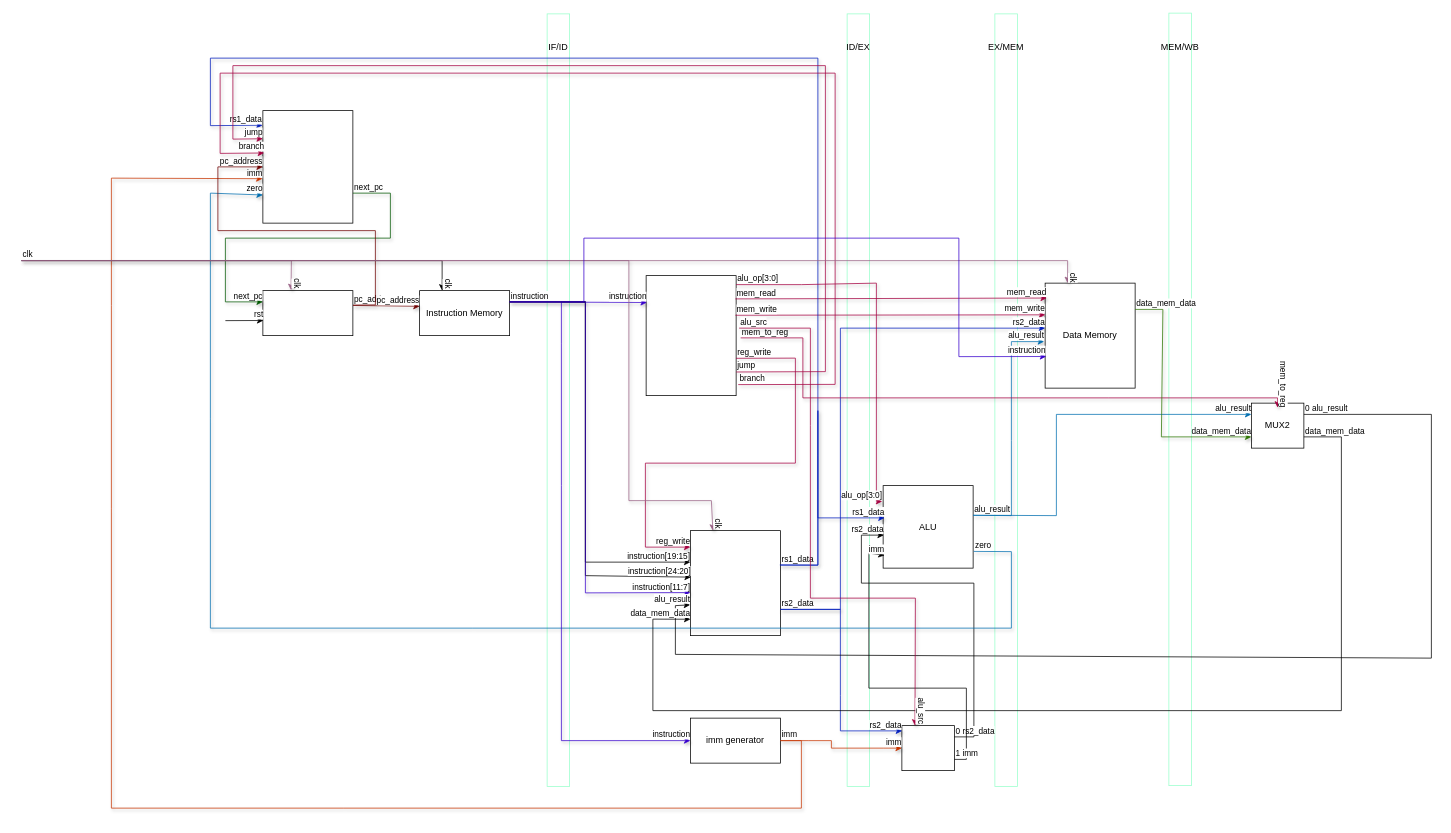
The diagram is 1451 pixels wide and 833 high, and some of its shapes have lost their labels. The shapes that lost their labels are listed below. From the top down, each one's centre as x and y in pixels, then its label:
At [307,166]: "PC Update".
At [307,313]: "Program Counter".
At [690,335]: "Control Unit".
At [735,583]: "Register File".
At [927,748]: "MUX1".
